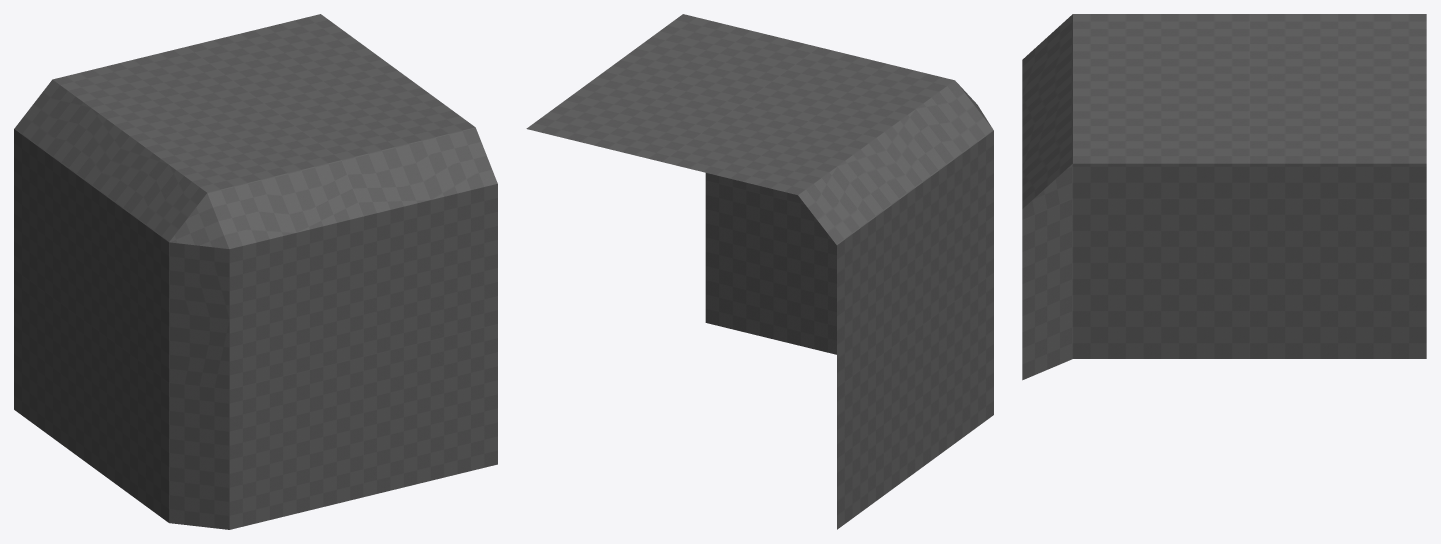
3 views of the same model, side by side, from view 1: azimuth 30°, elevation 25°; view 2: azimuth 150°, elevation 25°; view 3: azimuth 270°, elevation 25° (orthographic). The views are drawn at different scales.
Parts seen in each view (by area): view 1: 0; view 2: 0; view 3: 0.
Part boxes in pixels (x1,y1,x2,y2): 0: (14,14,497,529); 0: (526,14,993,529); 0: (1022,14,1426,380).
Bounding box in the file's own units: 2 × 2 × 2.
1 material, 1 textured.
